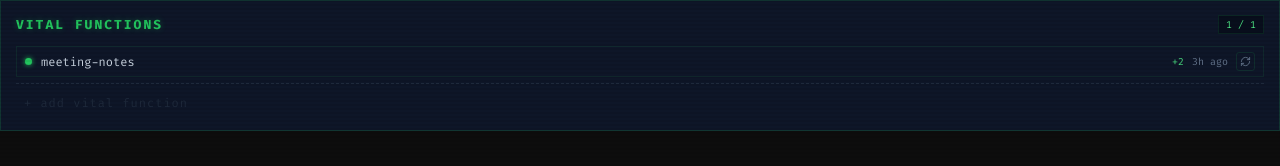
a failed run shows the failure reason
The width and height of the screenshot is (1280, 166).
Click the button named "sync meeting-notes". click: (1246, 62)
box: [1236, 52, 1255, 71]
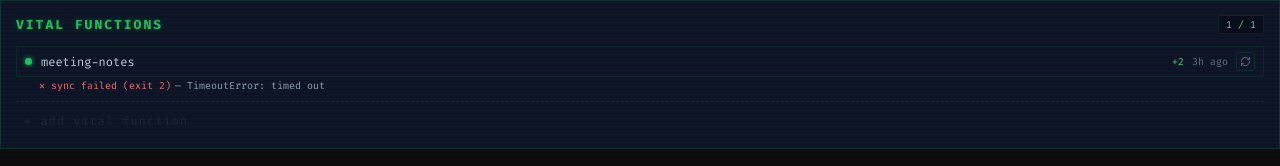
Expected: the text "✕ sync failed (exit 2)" is shown, [39, 79, 171, 92]
Expected: the text "— TimeoutError: timed out" is shown, [175, 79, 325, 92]
